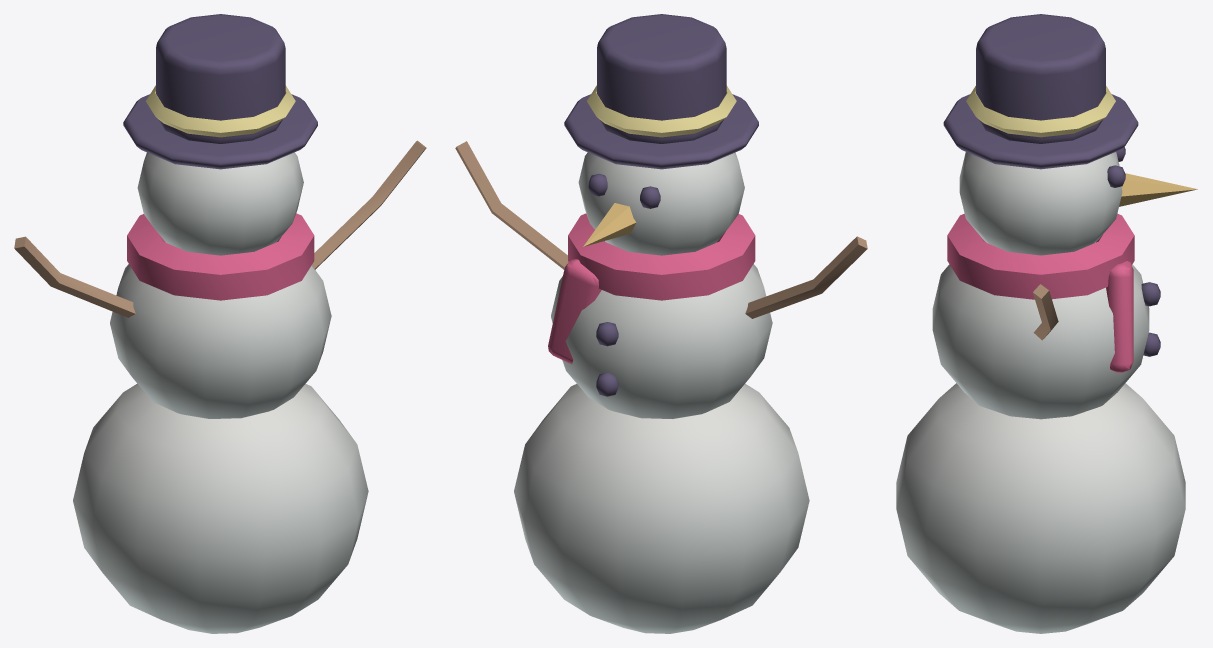
Rendered from s2Snowman.glb.
3 renders of one model, left to right at view 1: azimuth 30°, elevation 25°; view 2: azimuth 150°, elevation 25°; view 3: azimuth 270°, elevation 25°, orthographic.
Visible parts, largest first — view 1: Body; view 2: Body; view 3: Body.
Part boxes in pixels (x1,y1,x2,y2): Body: (14, 14, 426, 633); Body: (455, 14, 867, 633); Body: (896, 14, 1197, 633).
Bounding box in the file's own units: 5.14 × 6.92 × 3.26.
